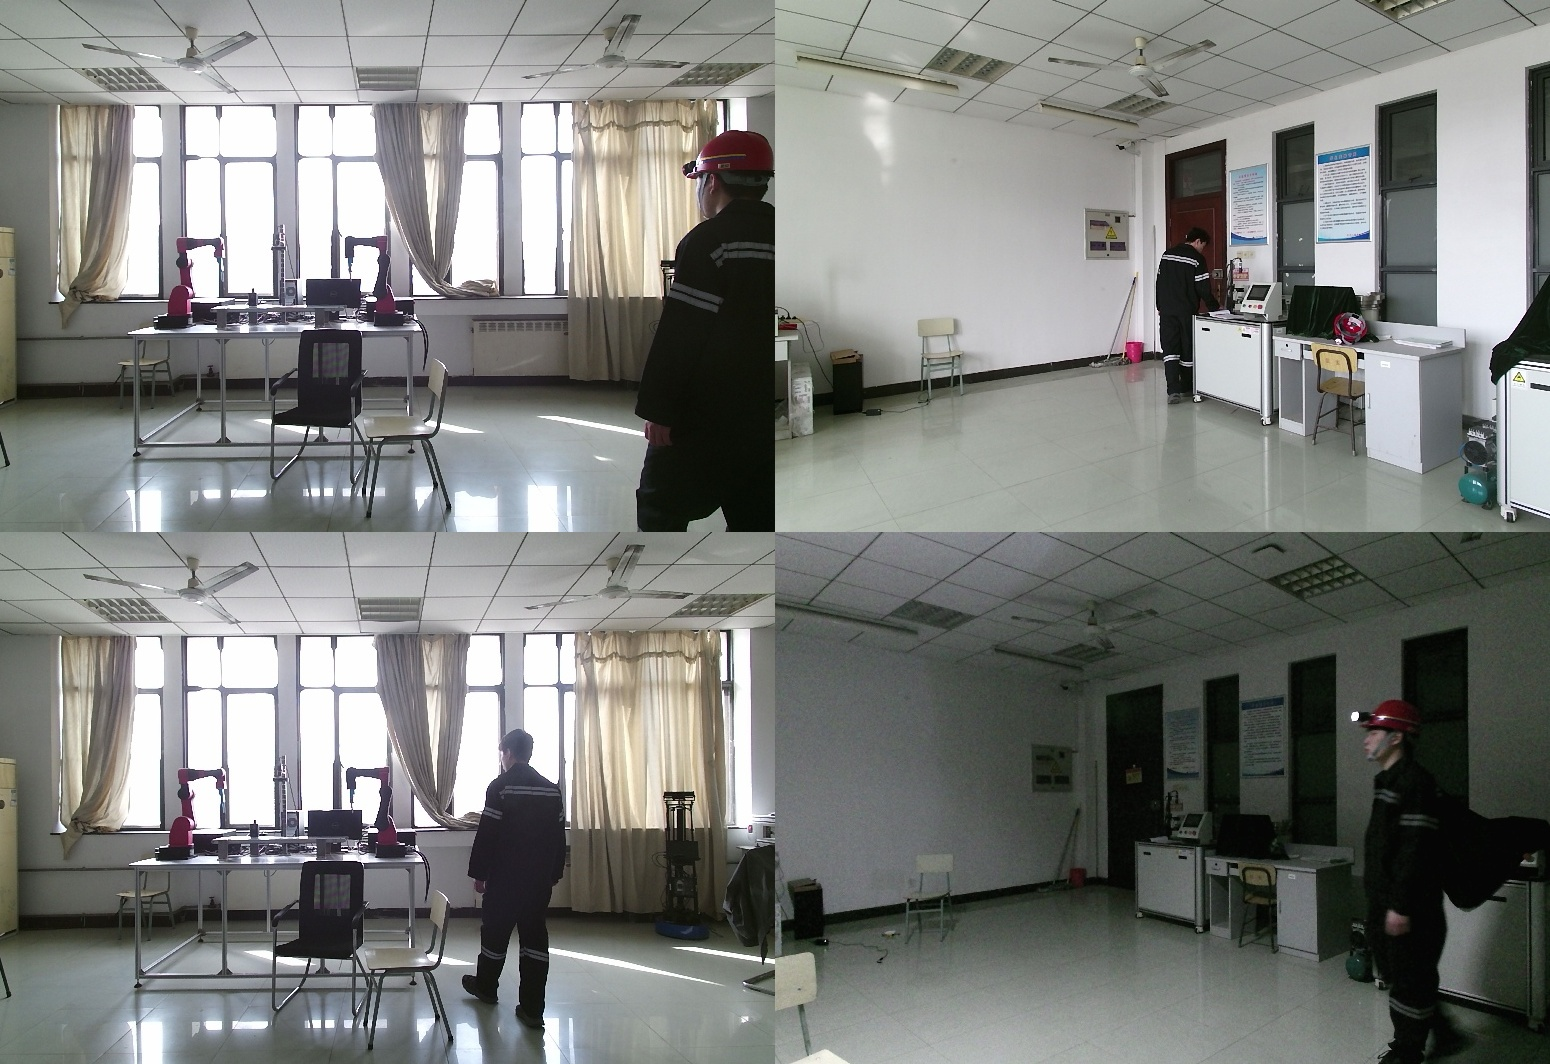person: (636, 131, 775, 532), (1359, 697, 1470, 1061), (461, 732, 574, 1026), (1156, 235, 1223, 409)
